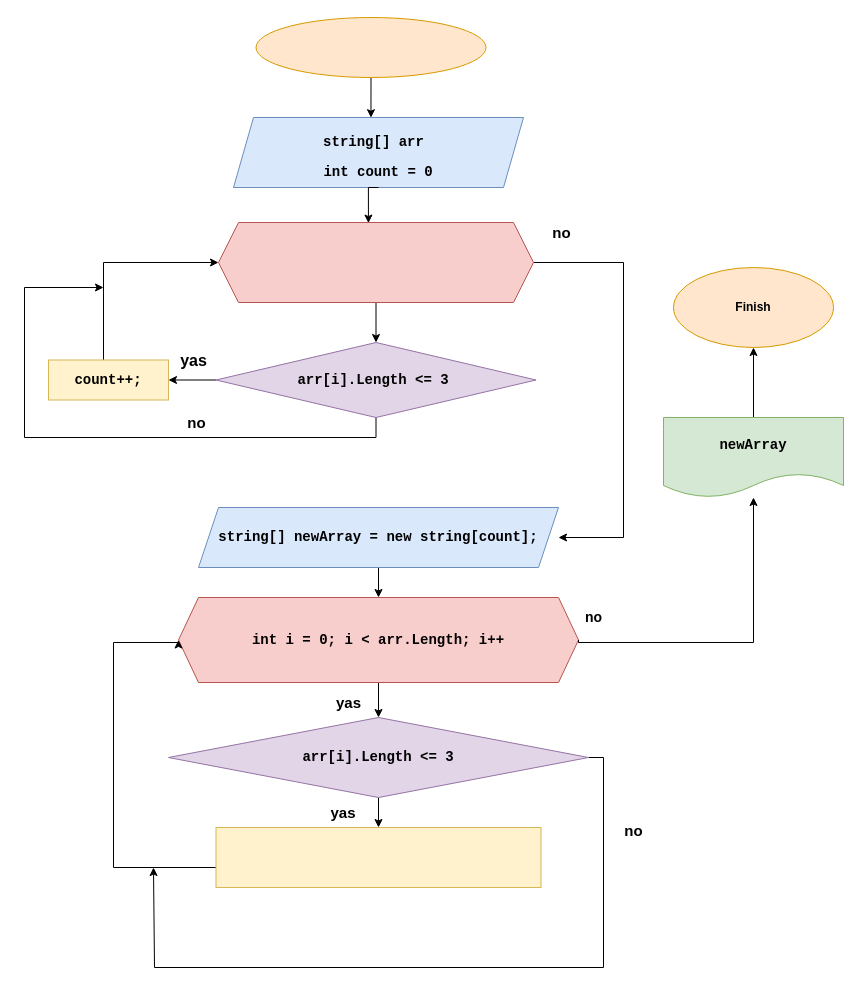
Some shapes in this 861 by 993 pixel diagram are drawn without their labels. Each missing label, with the centre of its shape:
int i = 0; i < arr.Length-1; i++: (x=376, y=262)
newArray[ i ] = arr [ i ];: (x=378, y=857)
Start: (x=370, y=47)
